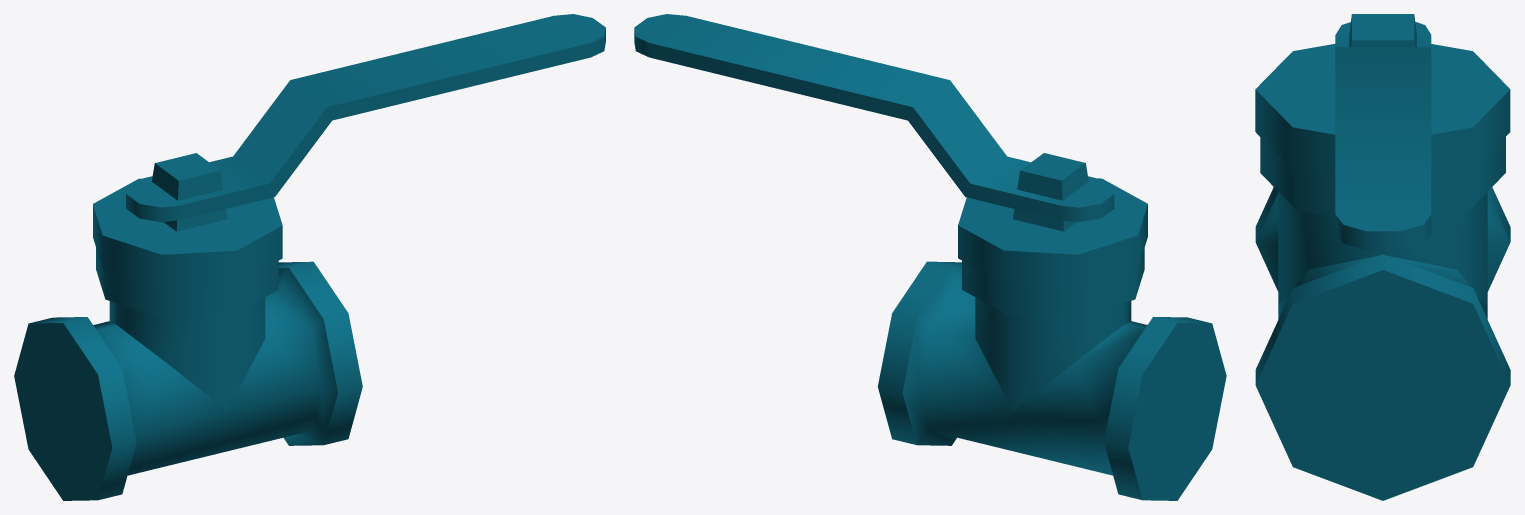
The model's file is Valve_B_Snaps004.FBX.
The picture shows the model from 3 angles, left to right: view 1: azimuth 30°, elevation 25°; view 2: azimuth 150°, elevation 25°; view 3: azimuth 270°, elevation 25°; orthographic projection. The views are drawn at different scales.
Visible parts, largest first — view 1: Geometry_Valve_B_LOD00; view 2: Geometry_Valve_B_LOD00; view 3: Geometry_Valve_B_LOD00.
Part boxes in pixels (x1=…): Geometry_Valve_B_LOD00: x1=14, y1=14, x2=605, y2=500; Geometry_Valve_B_LOD00: x1=634, y1=14, x2=1226, y2=500; Geometry_Valve_B_LOD00: x1=1255, y1=14, x2=1510, y2=500.
Size of what is drawn, in the model's own units: 12.35 by 7.64 by 3.92.
